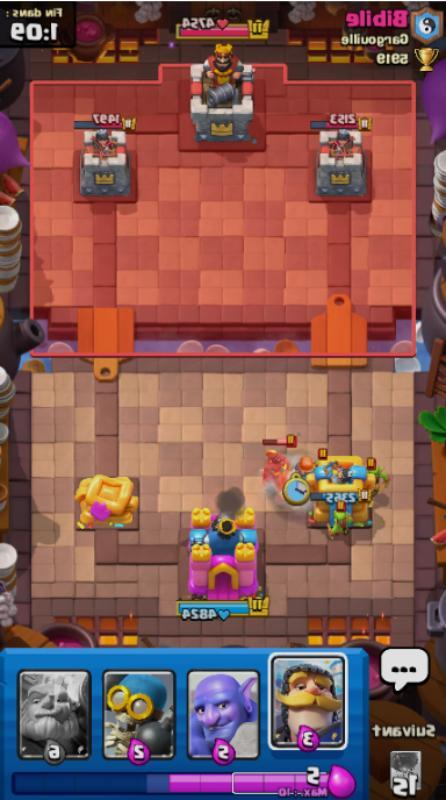enemy_goblins: (324, 498, 357, 543), (364, 452, 393, 497)
enemy_hog_rider: (259, 420, 308, 500)
player_valkyrie: (294, 452, 319, 481)
